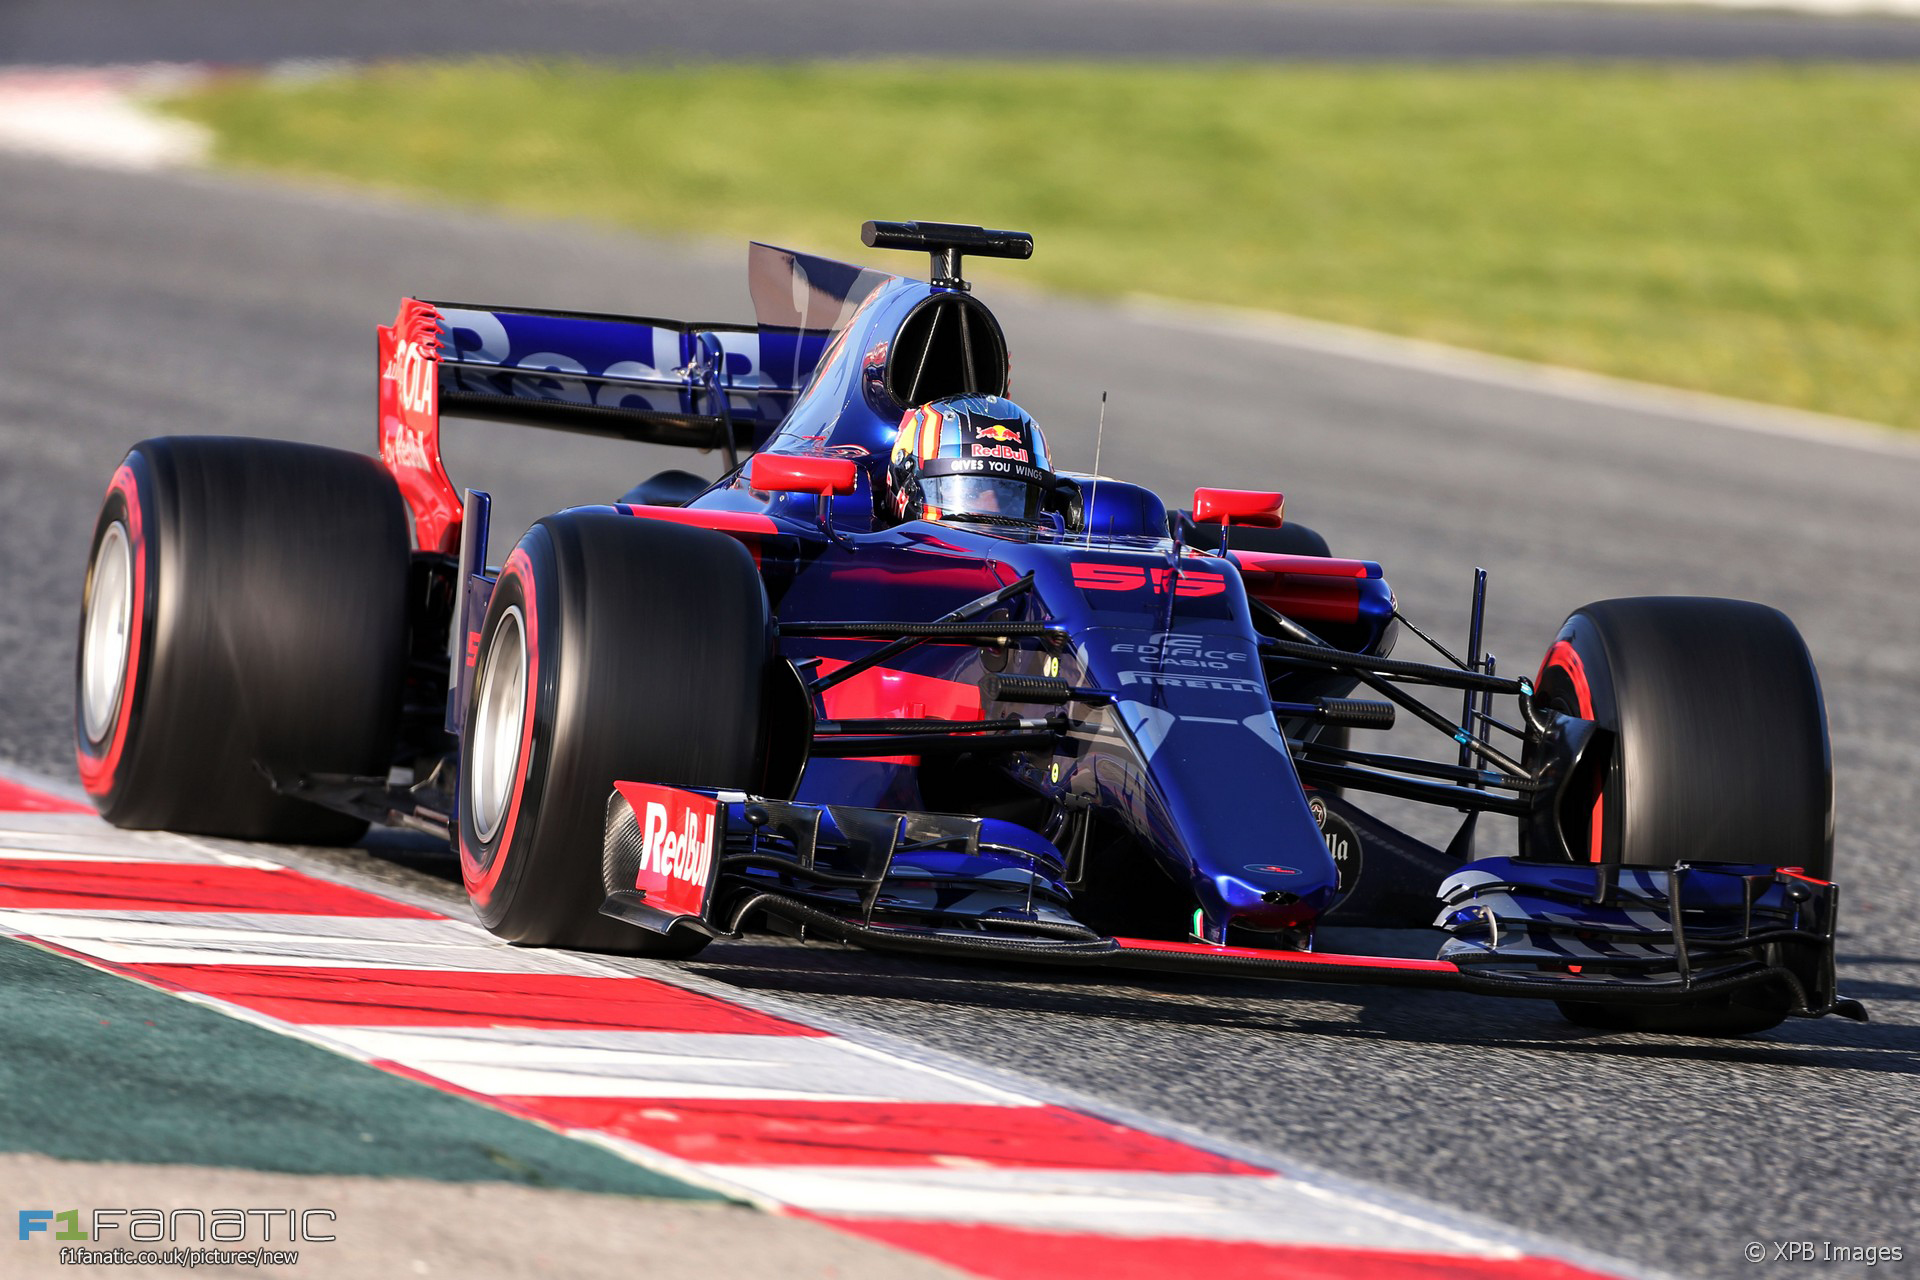F1 Car: (64, 194, 1871, 1051)
